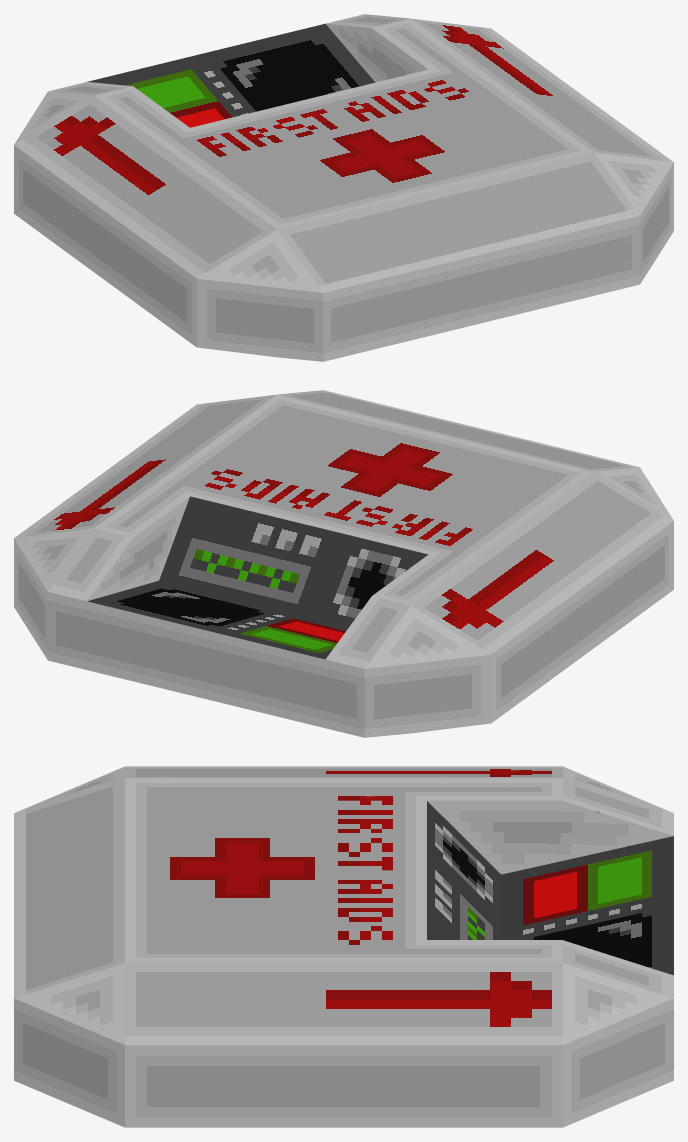
The model's file is firstaid.glb.
The picture shows the model from 3 angles, top to bottom: view 1: azimuth 30°, elevation 25°; view 2: azimuth 150°, elevation 25°; view 3: azimuth 270°, elevation 25°; orthographic projection. The views are drawn at different scales.
Visible parts, largest first — view 1: Cube_0; view 2: Cube_0; view 3: Cube_0.
Part boxes in pixels (<box>): Cube_0: <box>14,14,673,361</box>; Cube_0: <box>14,390,673,737</box>; Cube_0: <box>14,766,673,1127</box>.
Bounding box in the file's own units: 0.4 × 0.1024 × 0.4.
1 material, 1 textured.
